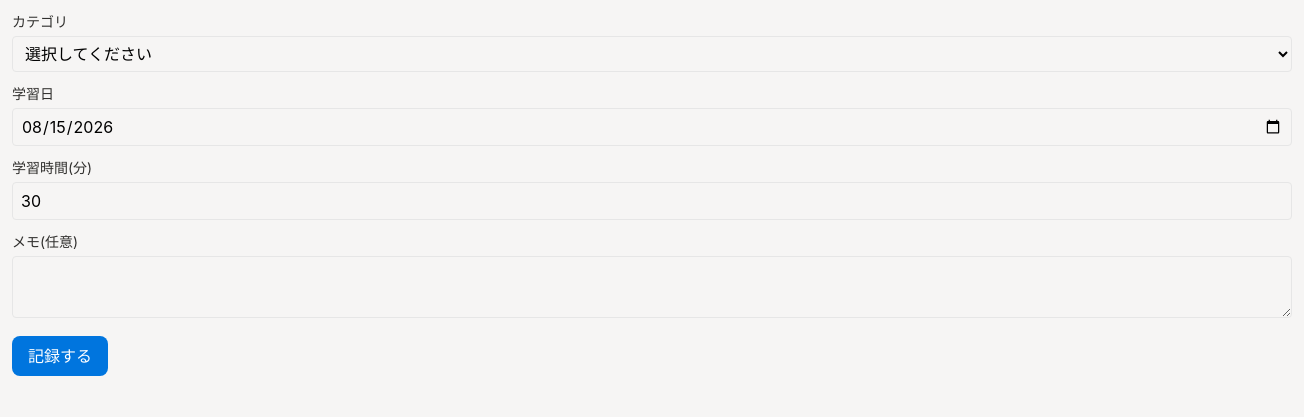
Test: LogForm › カテゴリ未選択で送信するとバリデーションエラーを表示する
Click the button "記録する" at (60, 356), box 12,336 -> 108,376
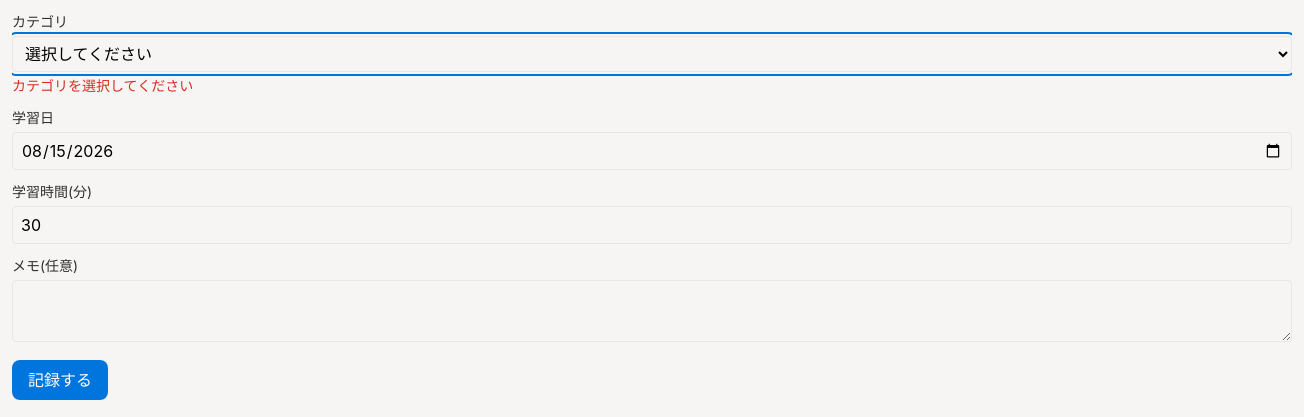
Check: the text "カテゴリを選択してください" is shown, box 12,77 -> 193,94
